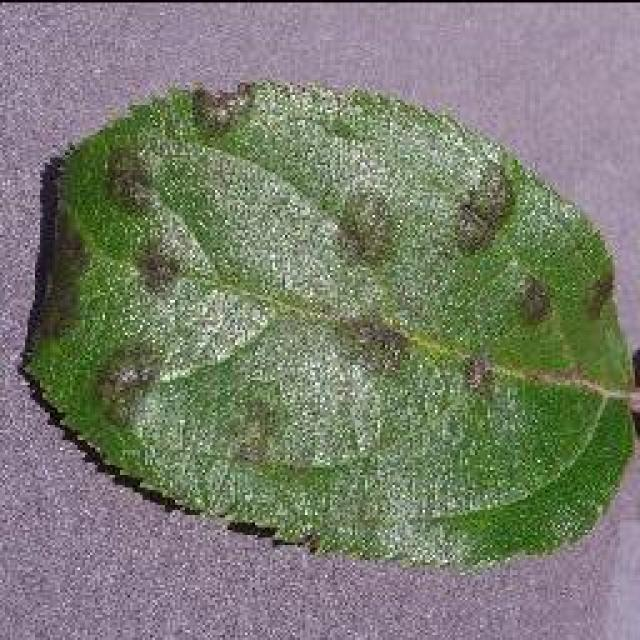apple scab disease: (18, 72, 638, 570)
